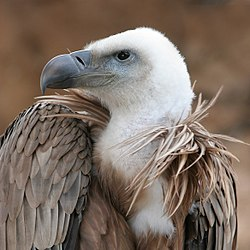Pengoyak Daging: (32, 51, 75, 98)
